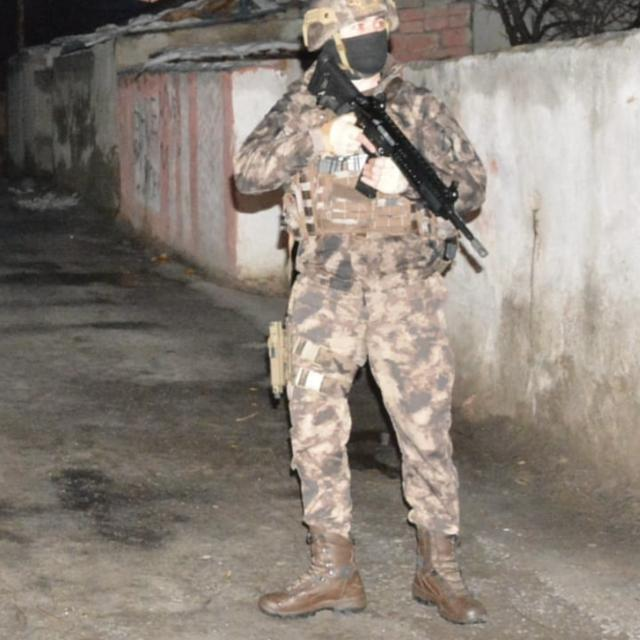poh_personel: (233, 0, 487, 624)
